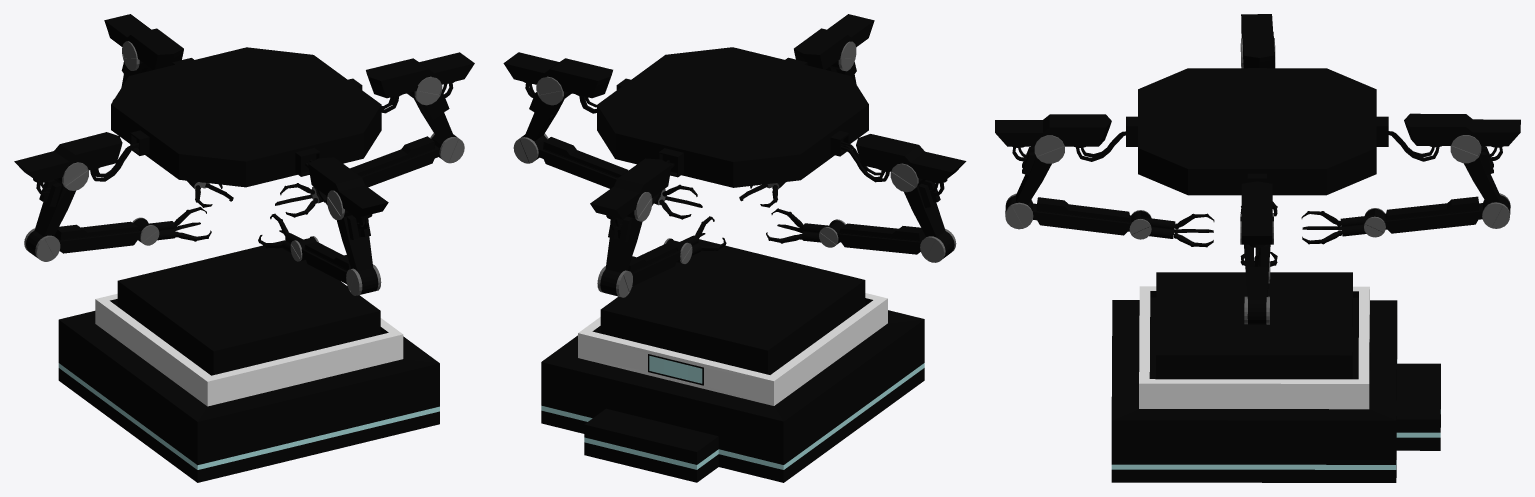
Rendered from Fabricator.fbx.
3 views of the same model, side by side, from view 1: azimuth 30°, elevation 25°; view 2: azimuth 150°, elevation 25°; view 3: azimuth 270°, elevation 25° (orthographic).
Parts seen in each view (by area): view 1: Cube.046, base2, upper_arm4, shoulder_mount4, shoulder_mount2, upper_arm2, shoulder_mount1, shoulder_mount3, shoulder_Joint4, upper_arm1, shoulder_Joint1, shoulder_Joint2 (+4 smaller); view 2: Cube.046, base2, upper_arm4, shoulder_mount4, shoulder_mount2, upper_arm2, shoulder_mount3, shoulder_mount1, upper_arm3, shoulder_Joint4, shoulder_Joint3, shoulder_Joint2 (+5 smaller); view 3: Cube.046, base2, upper_arm1, upper_arm3, shoulder_mount3, shoulder_mount1, shoulder_mount2, shoulder_Joint3, shoulder_mount4, shoulder_Joint1, shoulder_Joint2, gripper1 (+3 smaller).
Boxes of the visible parts, x1,y1,x2,y2 form: Cube.046: (58,240,439,482); base2: (111,47,381,187); upper_arm4: (24,221,141,261); shoulder_mount4: (14,132,122,182); shoulder_mount2: (366,52,474,98); upper_arm2: (350,133,464,187); shoulder_mount1: (308,157,388,218); shoulder_mount3: (104,14,183,69); shoulder_Joint4: (34,162,88,236); upper_arm1: (301,242,381,295); shoulder_Joint1: (327,190,373,271); shoulder_Joint2: (407,76,453,140); Cube.046: (541,239,924,482); base2: (597,47,868,187); upper_arm4: (837,223,956,262); shoulder_mount4: (856,134,966,183); shoulder_mount2: (503,52,612,98); upper_arm2: (513,133,628,188); shoulder_mount3: (590,158,671,219); shoulder_mount1: (794,14,874,69); upper_arm3: (597,244,680,297); shoulder_Joint4: (890,163,945,237); shoulder_Joint3: (605,192,652,272); shoulder_Joint2: (524,76,571,141); Cube.046: (1111,272,1440,482); base2: (1126,68,1388,195); upper_arm1: (1005,193,1131,235); upper_arm3: (1384,193,1510,233); shoulder_mount3: (1404,113,1520,147); shoulder_mount1: (995,114,1111,147); shoulder_mount2: (1241,181,1272,247); shoulder_Joint3: (1450,135,1499,204); shoulder_mount4: (1241,14,1274,68); shoulder_Joint1: (1015,135,1064,204); shoulder_Joint2: (1240,214,1273,299); gripper1: (1140,213,1214,247).
Bounding box in the file's own units: 14.6 × 14.61 × 9.3.
